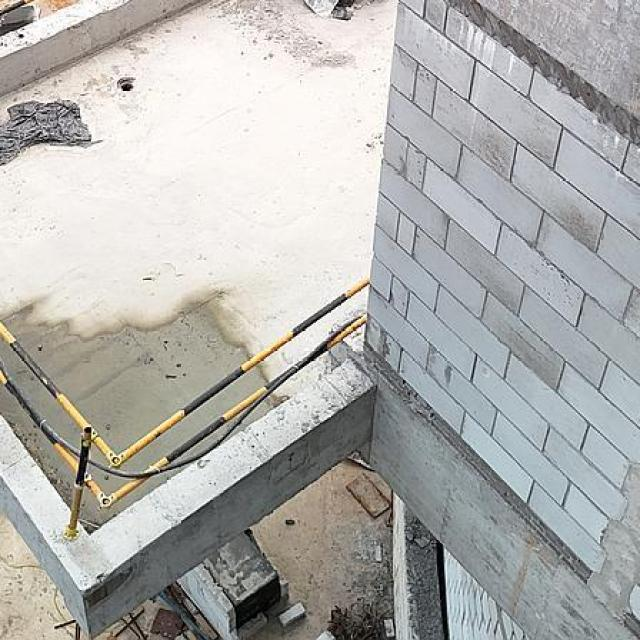edge_guardrail: (0, 274, 370, 540), (0, 0, 34, 17)
